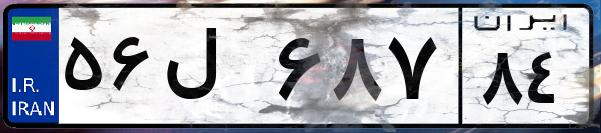4: (525, 38, 570, 115)
5: (57, 26, 110, 100)
6: (270, 28, 330, 110), (110, 28, 158, 98)
7: (385, 28, 445, 110)
8: (330, 28, 385, 110), (475, 38, 525, 113)
ل: (158, 20, 270, 120)
